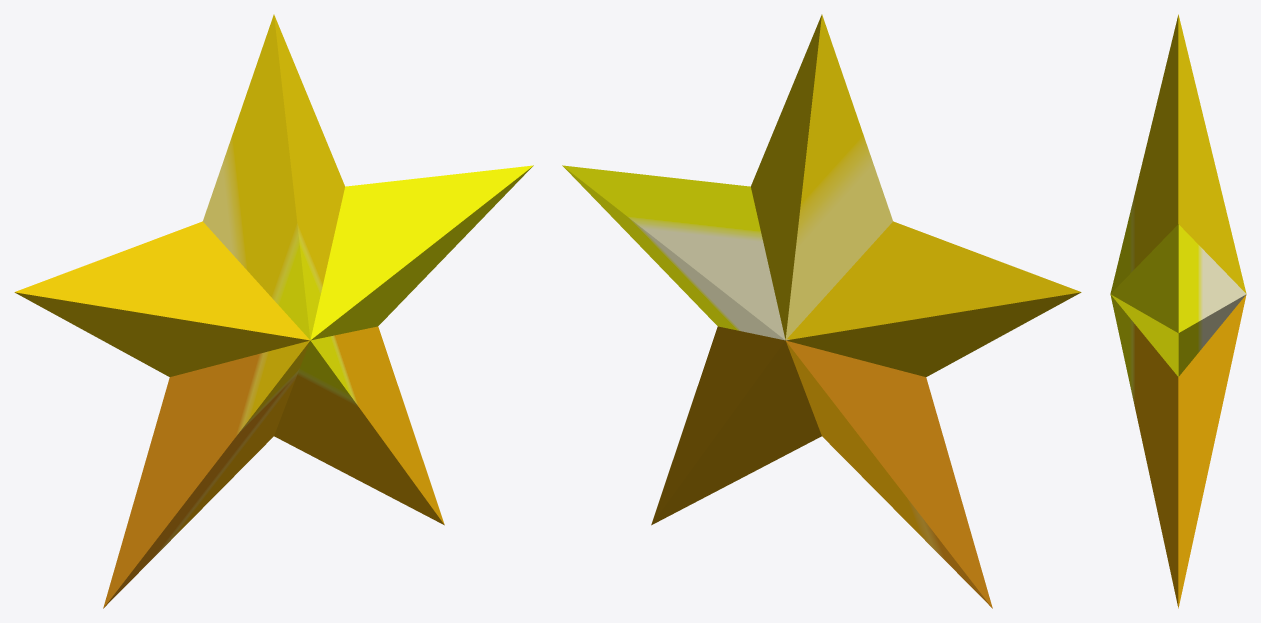
File: enemy02.obj
3 views of the same model, side by side, from view 1: azimuth 30°, elevation 25°; view 2: azimuth 150°, elevation 25°; view 3: azimuth 270°, elevation 25° (orthographic). The views are drawn at different scales.
Visible parts, largest first — view 1: Cube; view 2: Cube; view 3: Cube.
Part boxes in pixels (<box>): Cube: <box>14,14,533,608</box>; Cube: <box>562,14,1081,608</box>; Cube: <box>1110,14,1246,608</box>.
Size of the model in its own units: 7.34 by 7.46 by 1.78.
Materials: 1 (1 with a texture image).
